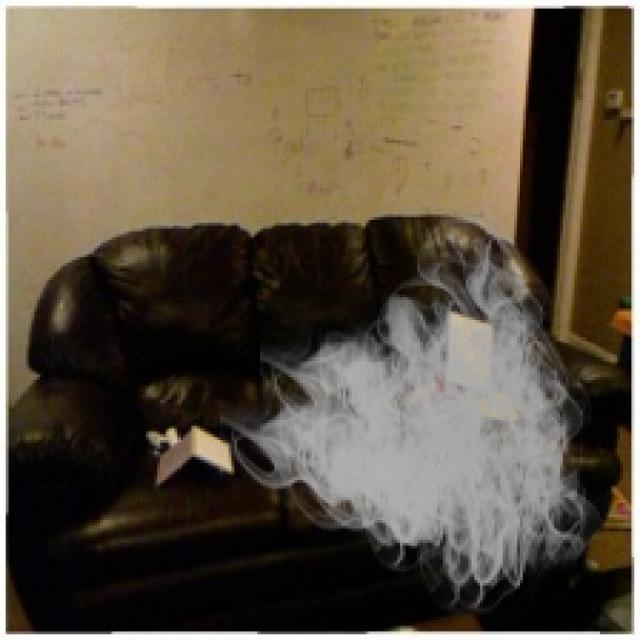smoke: (220, 200, 611, 626)
